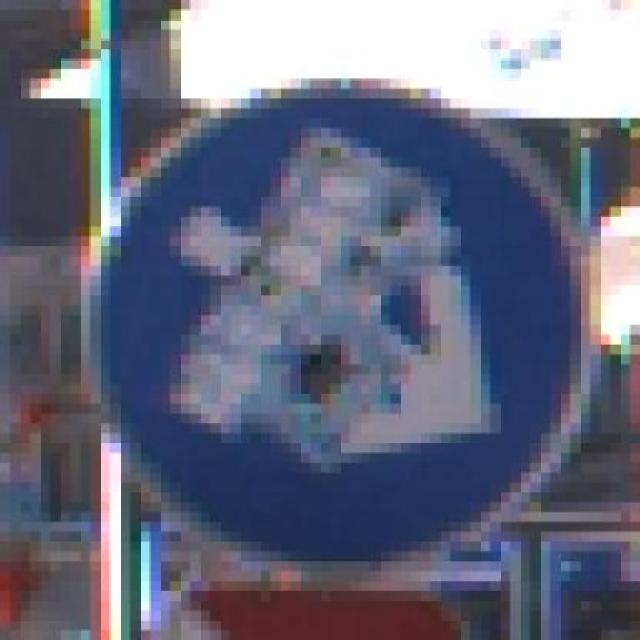Keep-Right: (70, 68, 610, 581)
